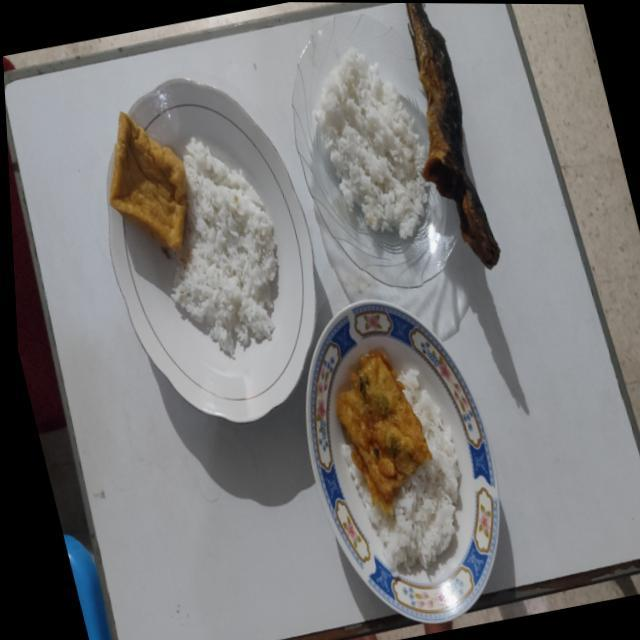nasi_putih: (342, 370, 462, 570), (171, 138, 278, 356), (315, 51, 428, 238)
tahu_goreng: (110, 112, 188, 251)
